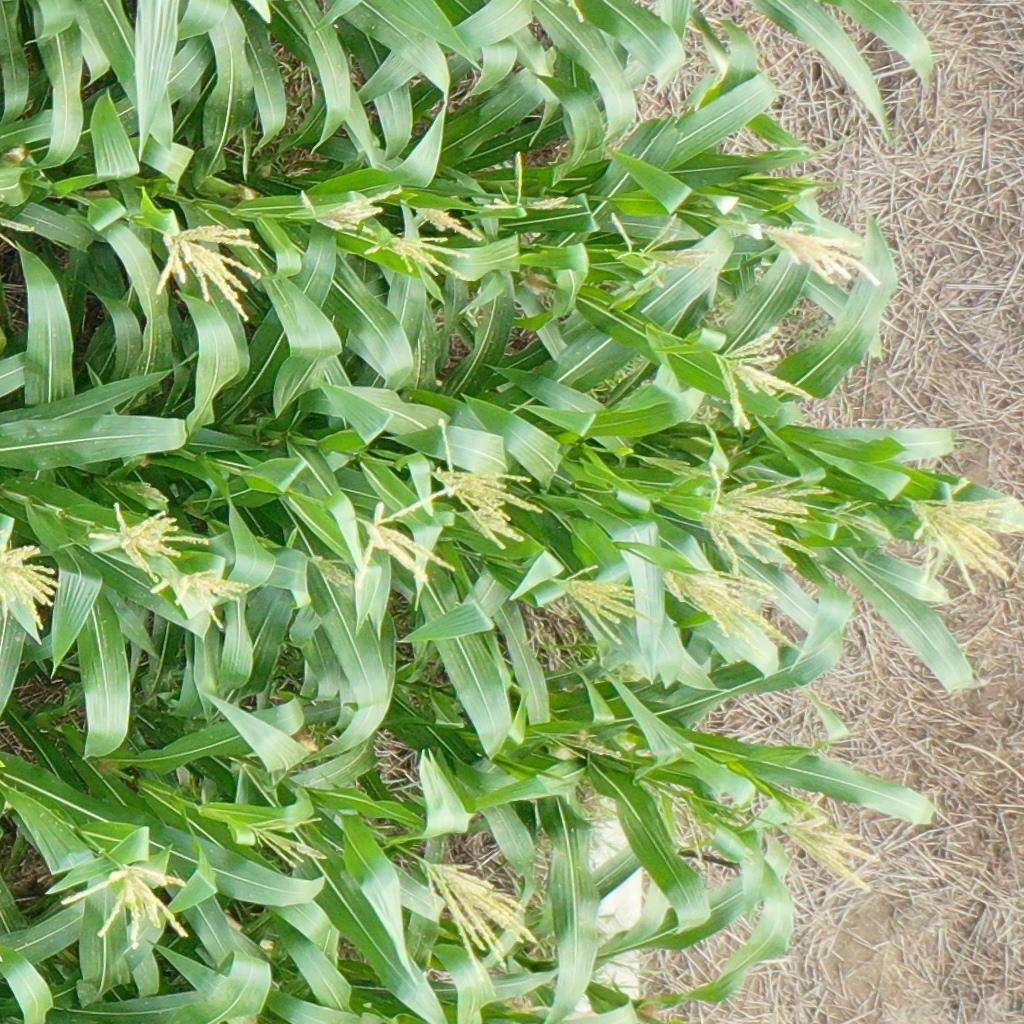Tassel: (420, 857, 541, 997), (902, 474, 1024, 597), (703, 454, 821, 574), (659, 563, 804, 658), (434, 420, 536, 553), (150, 221, 271, 323), (58, 863, 189, 952), (710, 325, 813, 433), (770, 788, 879, 890), (89, 498, 212, 586), (355, 489, 461, 589), (605, 207, 724, 290), (556, 560, 657, 650), (766, 220, 886, 288), (361, 225, 471, 287), (483, 150, 580, 217), (1, 529, 62, 632), (151, 569, 250, 631), (297, 180, 401, 231), (244, 809, 330, 870), (822, 493, 889, 547), (409, 200, 486, 243), (458, 500, 529, 546), (539, 728, 621, 762), (637, 454, 725, 481), (307, 549, 357, 592)
